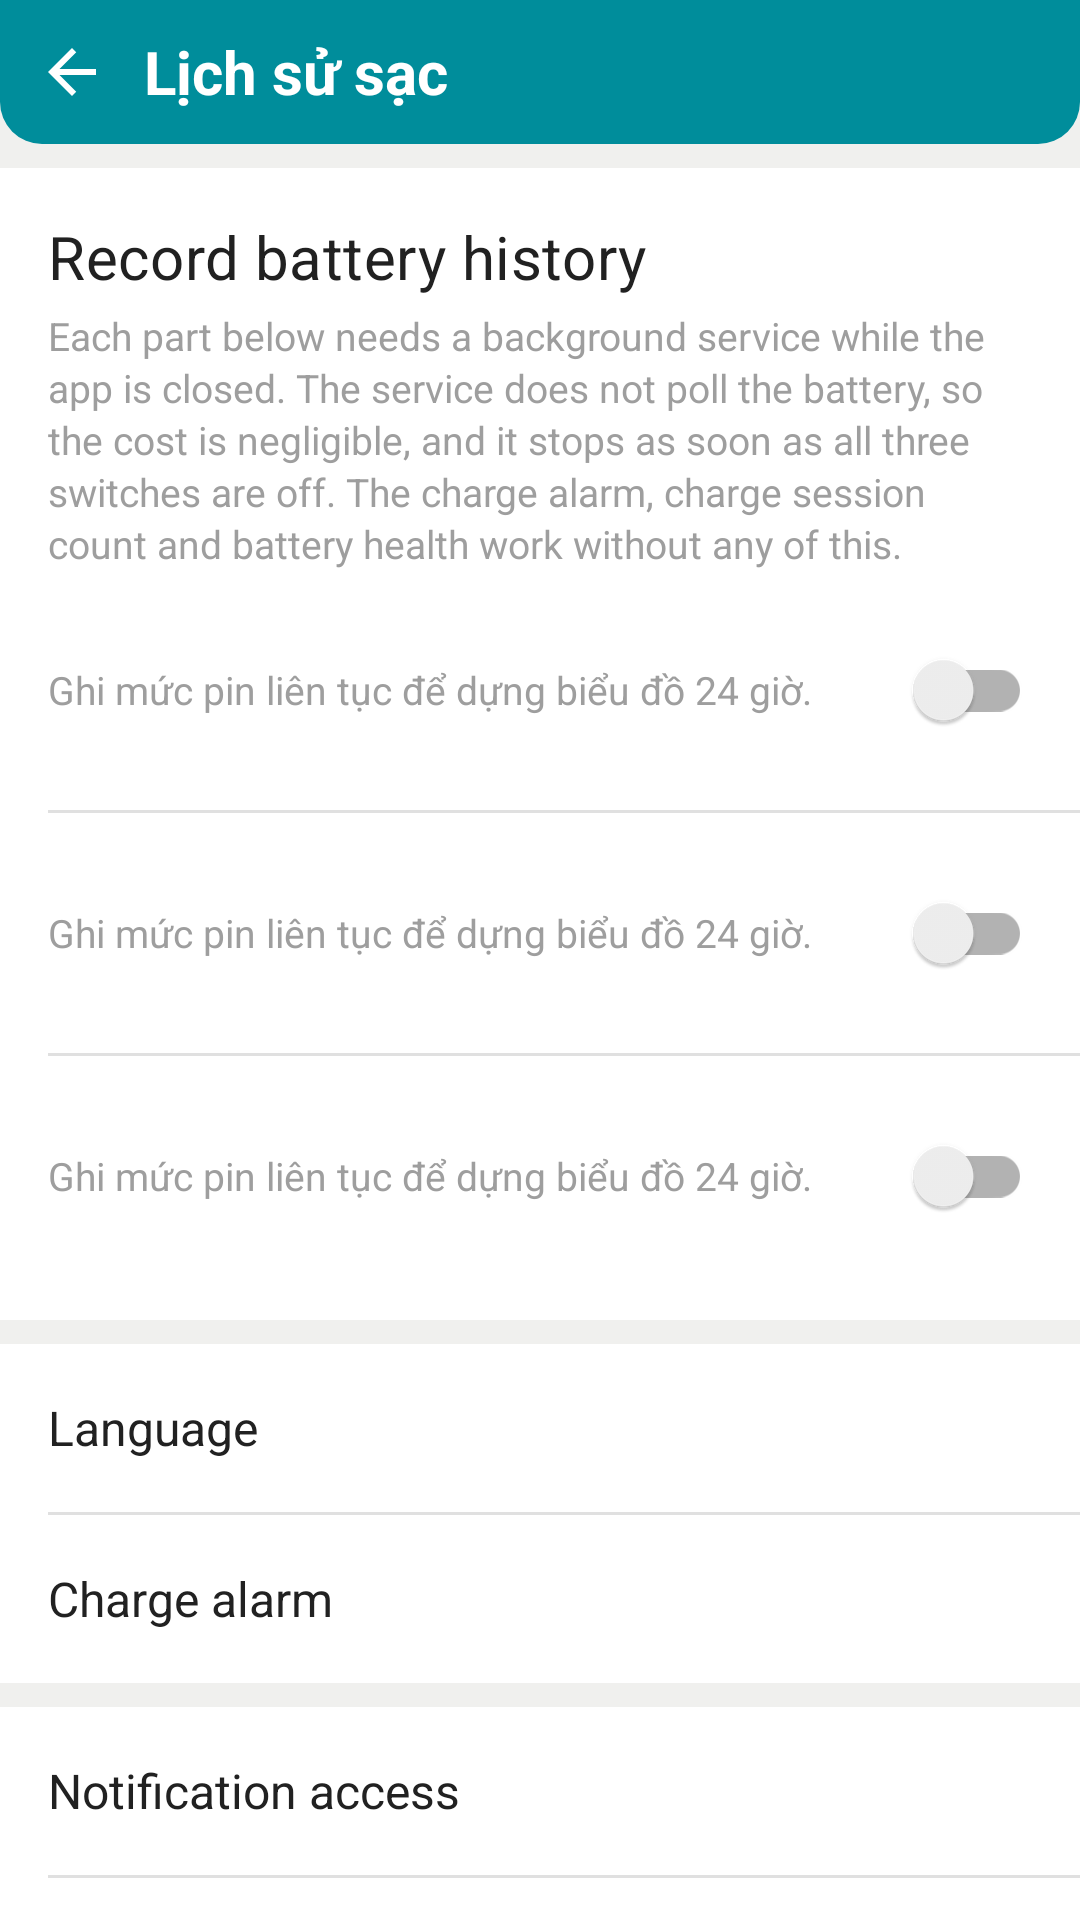

Screen size 1080×1920. Icon name, then its center in pixels as (x,y):
Back: (72,72)
